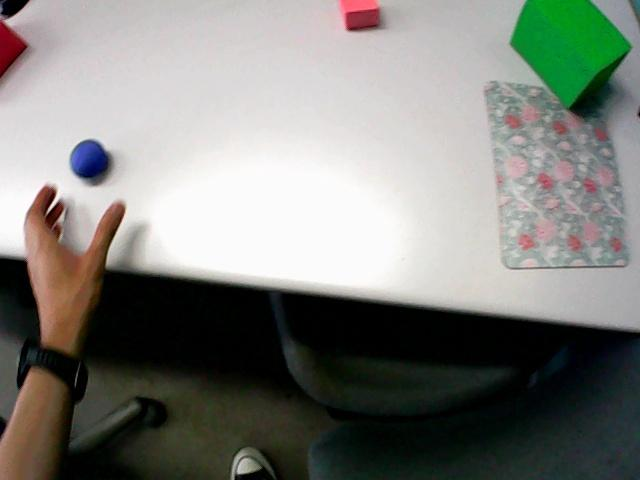red_block: (0, 21, 26, 74), (339, 0, 379, 29)
